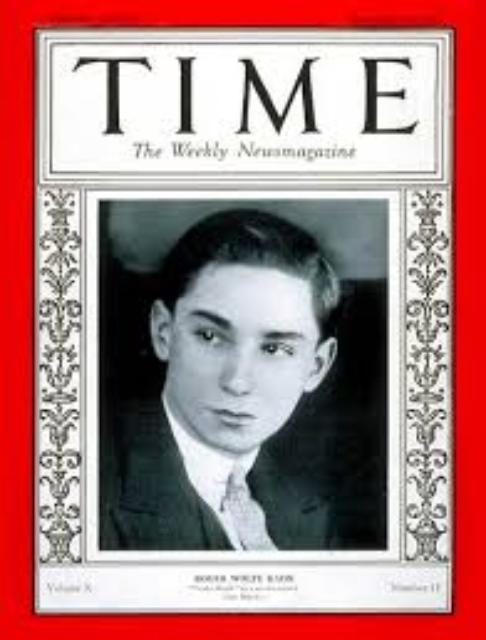cardboard paper: (35, 27, 447, 608)
